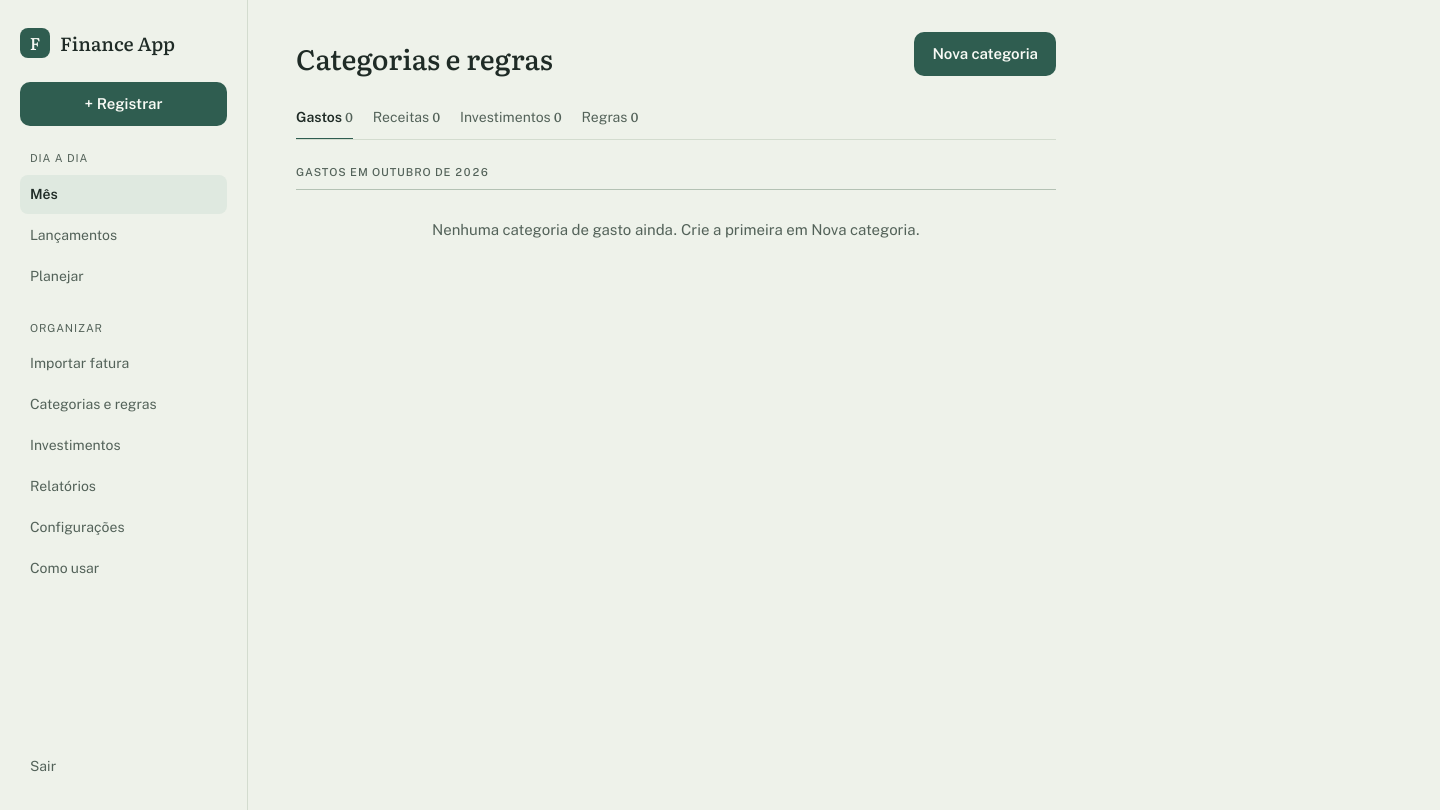
Test: Página de categorias › mostra estados vazios por tipo quando não há categorias
Check: the heading "Categorias e regras" is shown, box [296, 42, 553, 76]
Check: the panel shows "Nenhuma categoria de gasto ainda.", box [432, 220, 920, 238]
Click the tab "Receitas 0".
click(406, 118)  # box [373, 96, 440, 140]
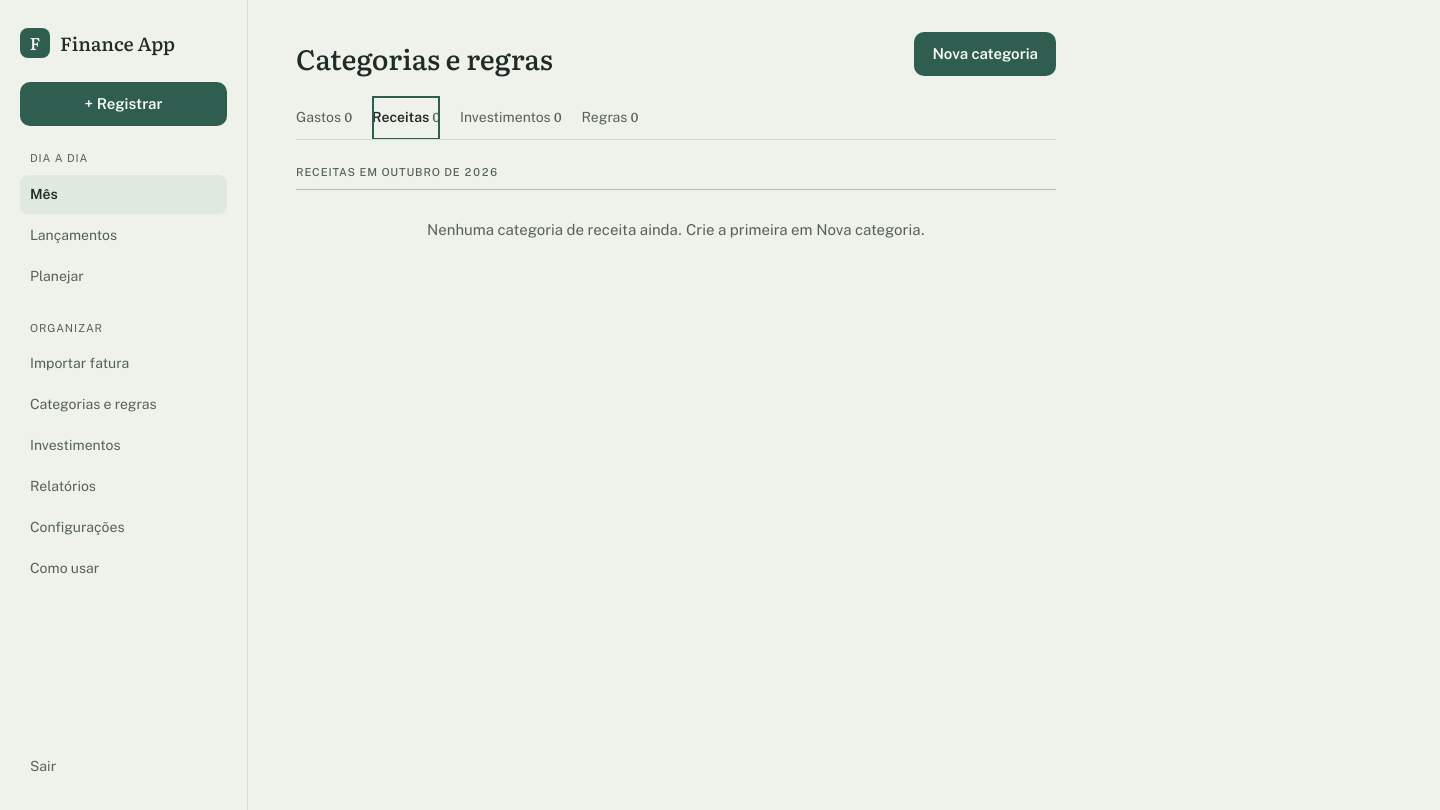
Check: the panel shows "Nenhuma categoria de receita ainda.", box [427, 220, 925, 238]
Click the tab "Investimentos 0".
click(511, 118)  # box [460, 96, 562, 140]
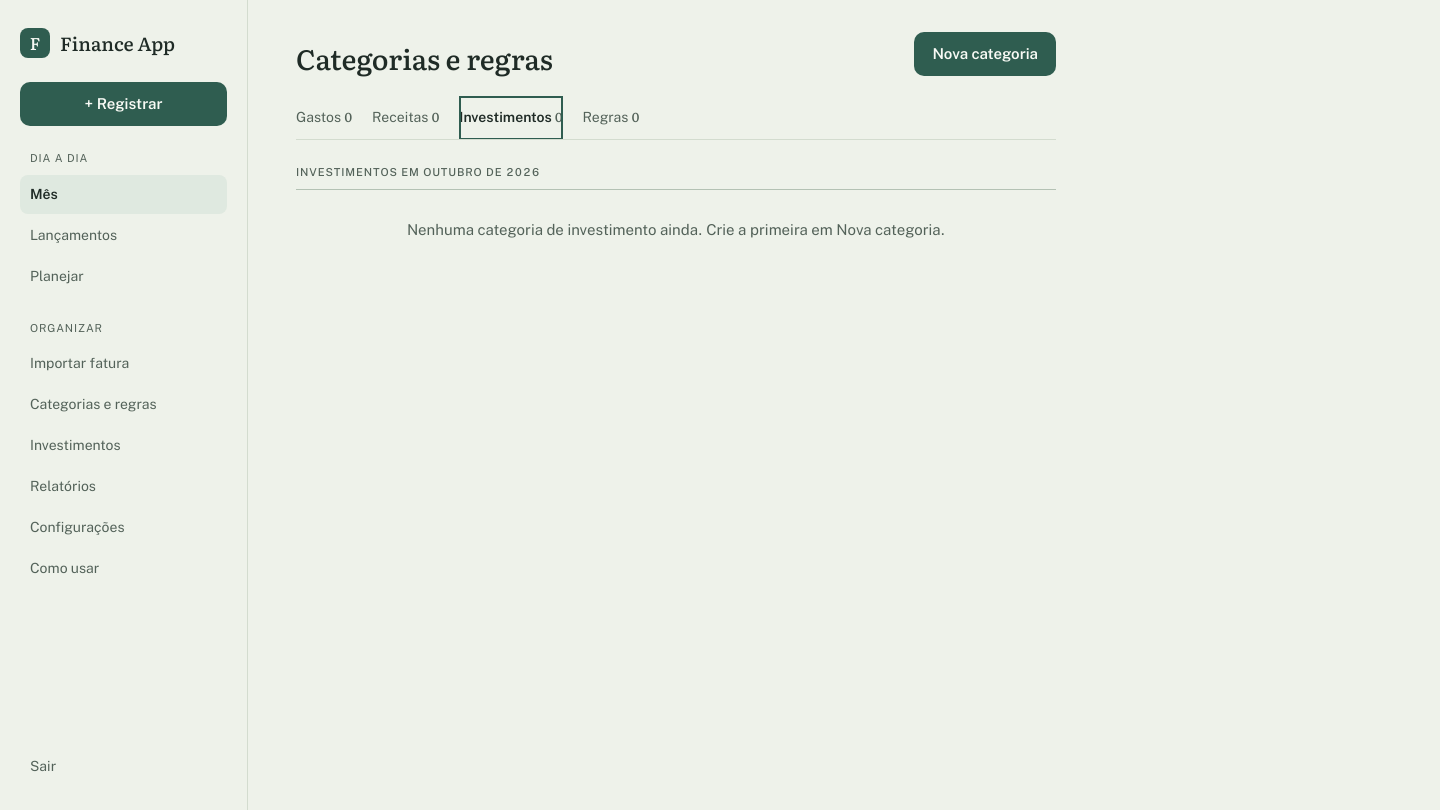
Check: the panel shows "Nenhuma categoria de investimento ainda.", box [407, 220, 945, 238]
